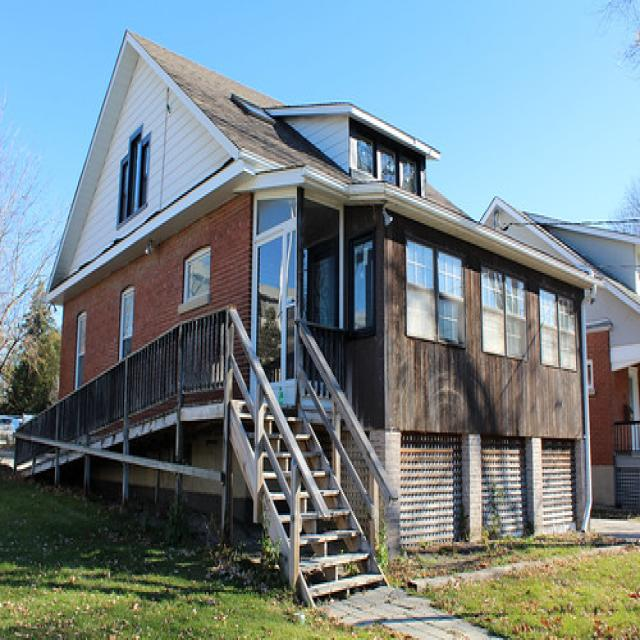building: (42, 21, 595, 586)
